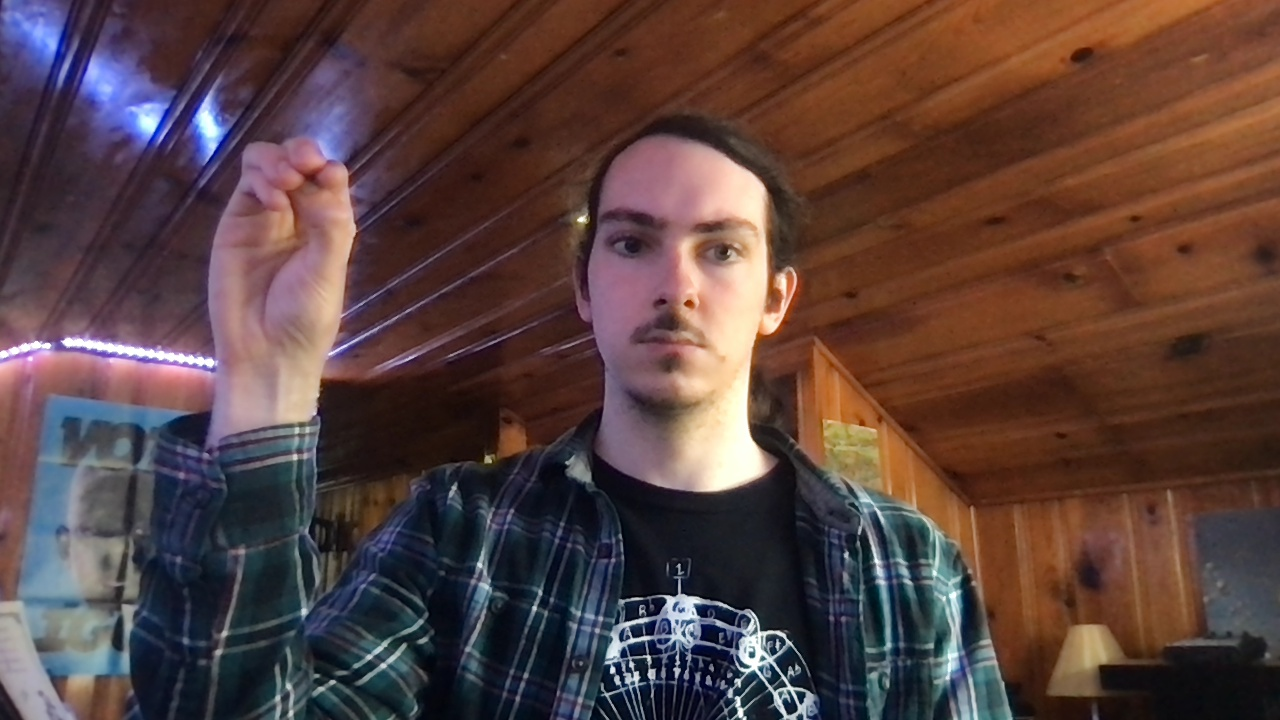m: (205, 135, 358, 361)
